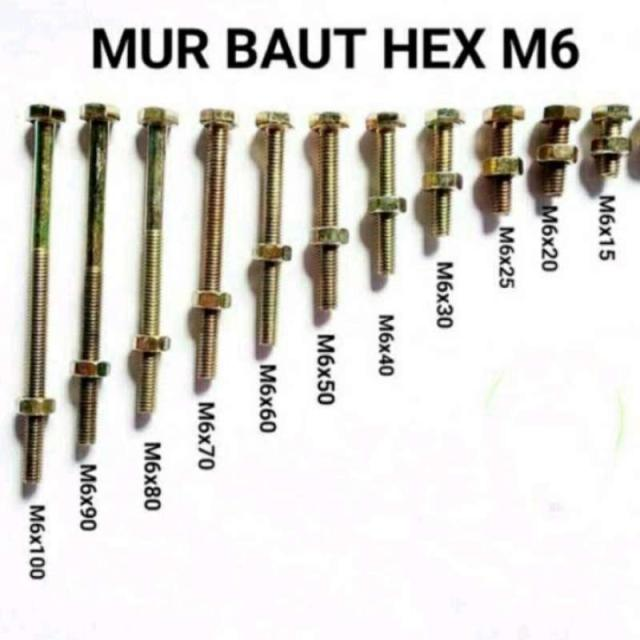Logam: (17, 76, 632, 493)
